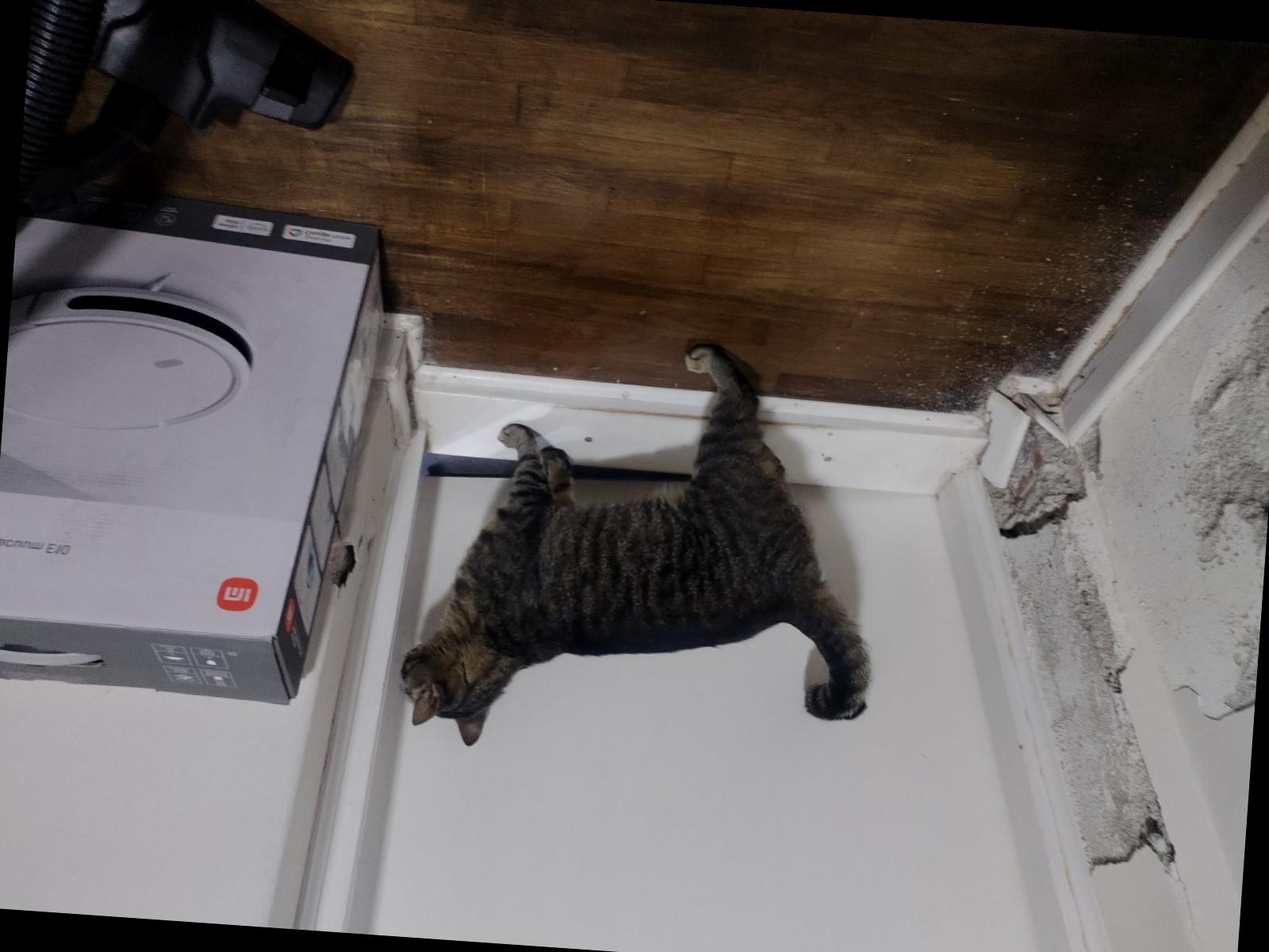macka: (399, 327, 897, 776)
